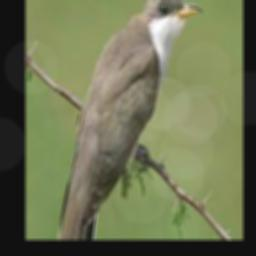Cuckoo: (56, 0, 202, 240)
